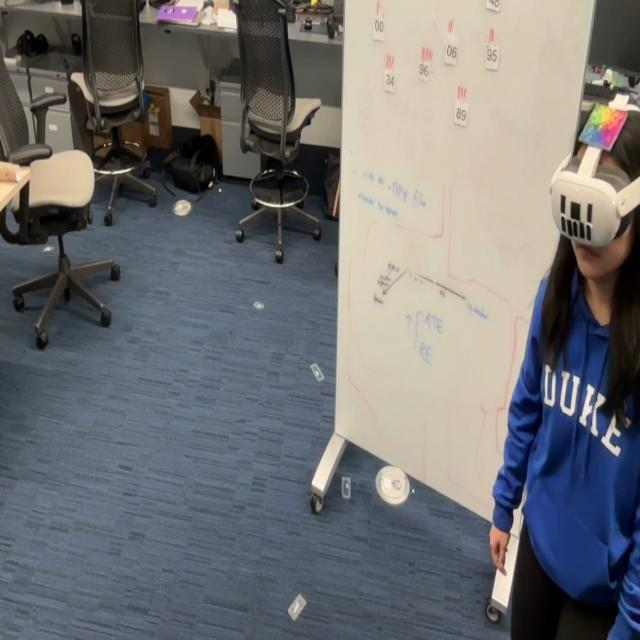Headset: (550, 99, 640, 249)
Marker: (578, 96, 628, 153)
